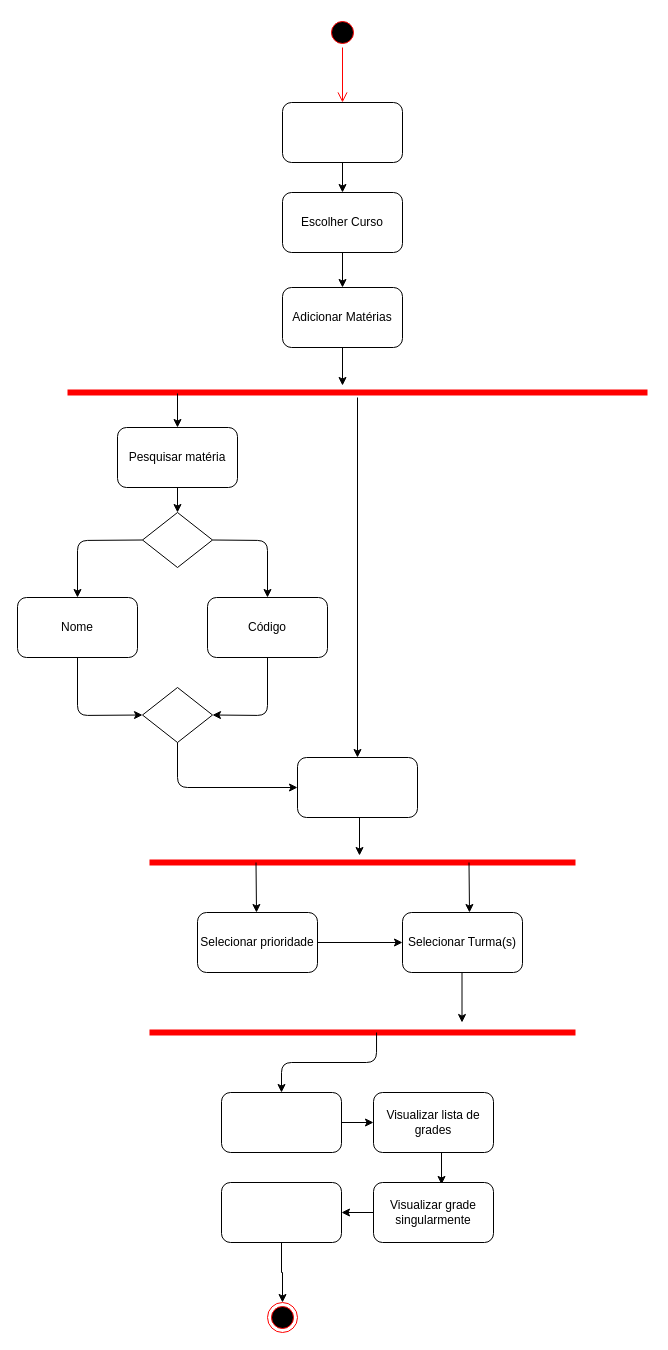
Image size: 668x1350. Some labels were removed from this diagram. The box of each missing label's shape, as (x1, y1, x2, y2) in pixels:
Escolher Campus: (282, 102, 402, 162)
Montar Grade: (220, 1092, 342, 1152)
Salvar grade no dispositivo: (220, 1182, 342, 1242)
Selecionar matéria: (296, 756, 418, 818)
